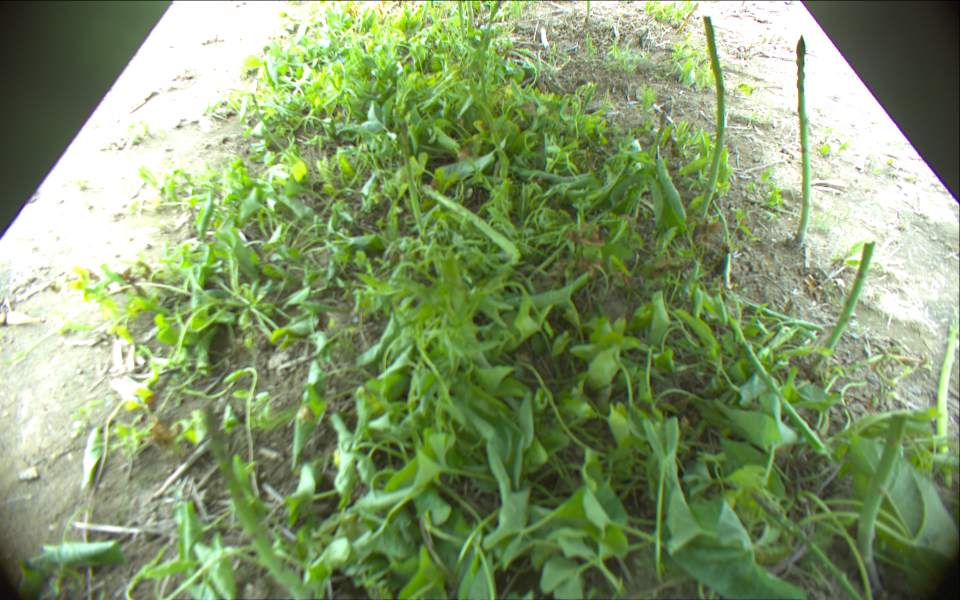aspa: (202, 405, 310, 600), (743, 484, 863, 600), (727, 316, 823, 459), (851, 414, 910, 600), (815, 240, 877, 365), (420, 183, 520, 260), (697, 16, 727, 216), (933, 319, 956, 485), (794, 35, 811, 247), (397, 118, 427, 238), (482, 1, 503, 51), (465, 1, 477, 33), (455, 1, 465, 34), (583, 1, 592, 22)
